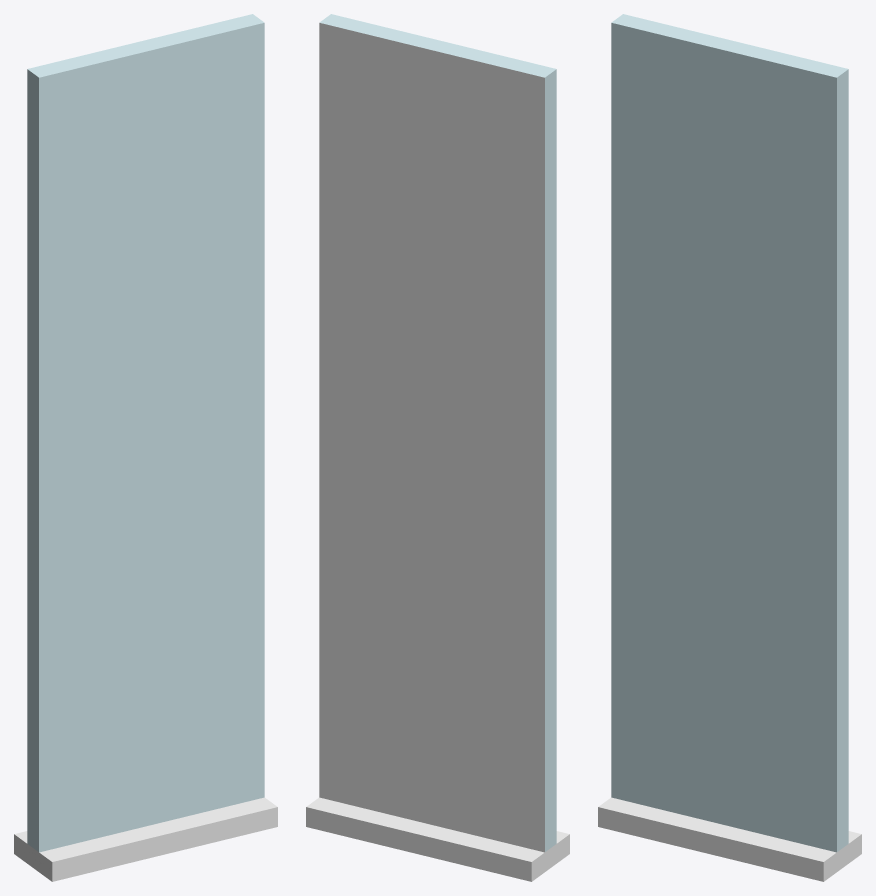
Rendered from 21_wall.FBX.
The picture shows the model from 3 angles, left to right: view 1: azimuth 30°, elevation 25°; view 2: azimuth 150°, elevation 25°; view 3: azimuth 330°, elevation 25°; orthographic projection.
Parts seen in each view (by area): view 1: 21_wall; view 2: 21_wall; view 3: 21_wall.
Part boxes in pixels (x1,y1,x2,y2): 21_wall: (14, 14, 277, 881); 21_wall: (306, 14, 569, 881); 21_wall: (598, 14, 861, 881).
Size of the model in its own units: 128 by 432 by 37.56.
